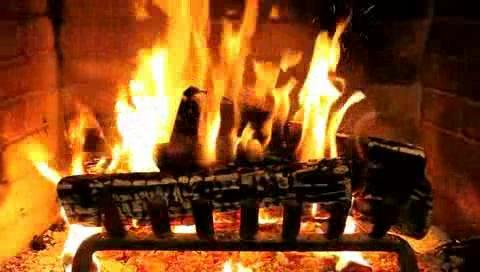fire: (102, 4, 361, 184)
